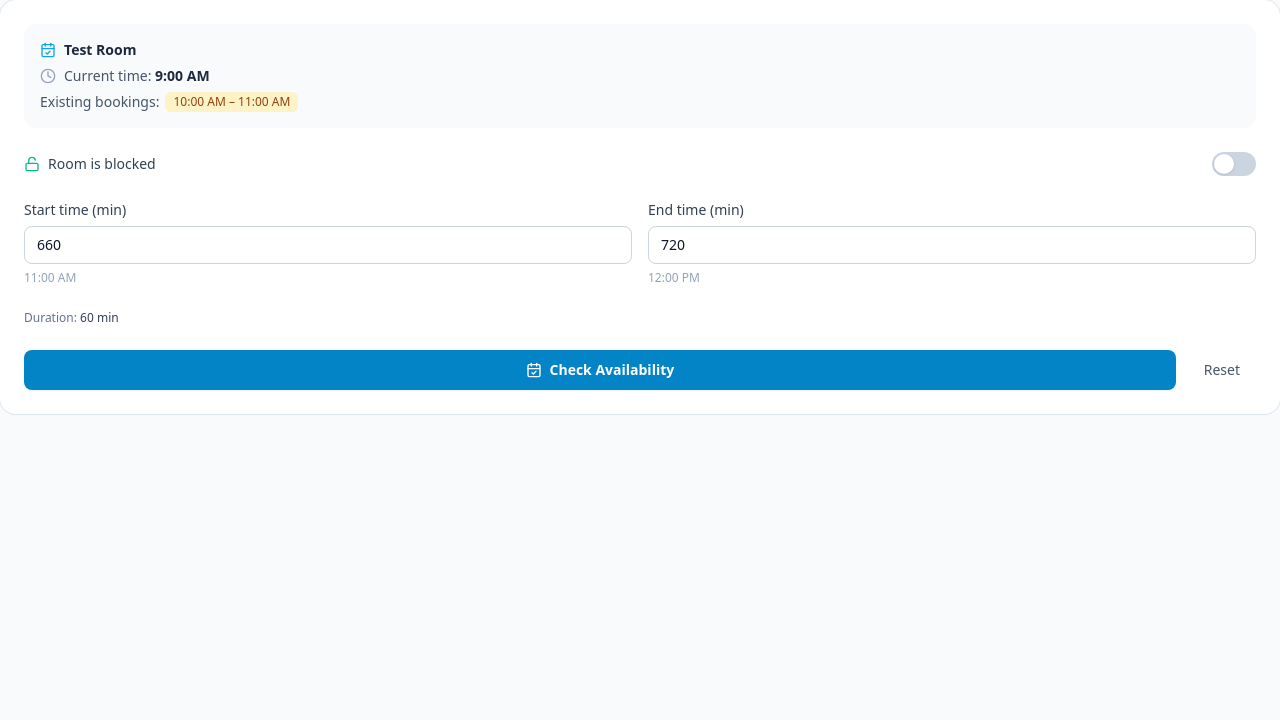
Test case: AvailabilityPanel › reports available for a valid non-overlapping future window
Click the button "Check Availability". click: x=600, y=370
box: [24, 350, 1176, 390]
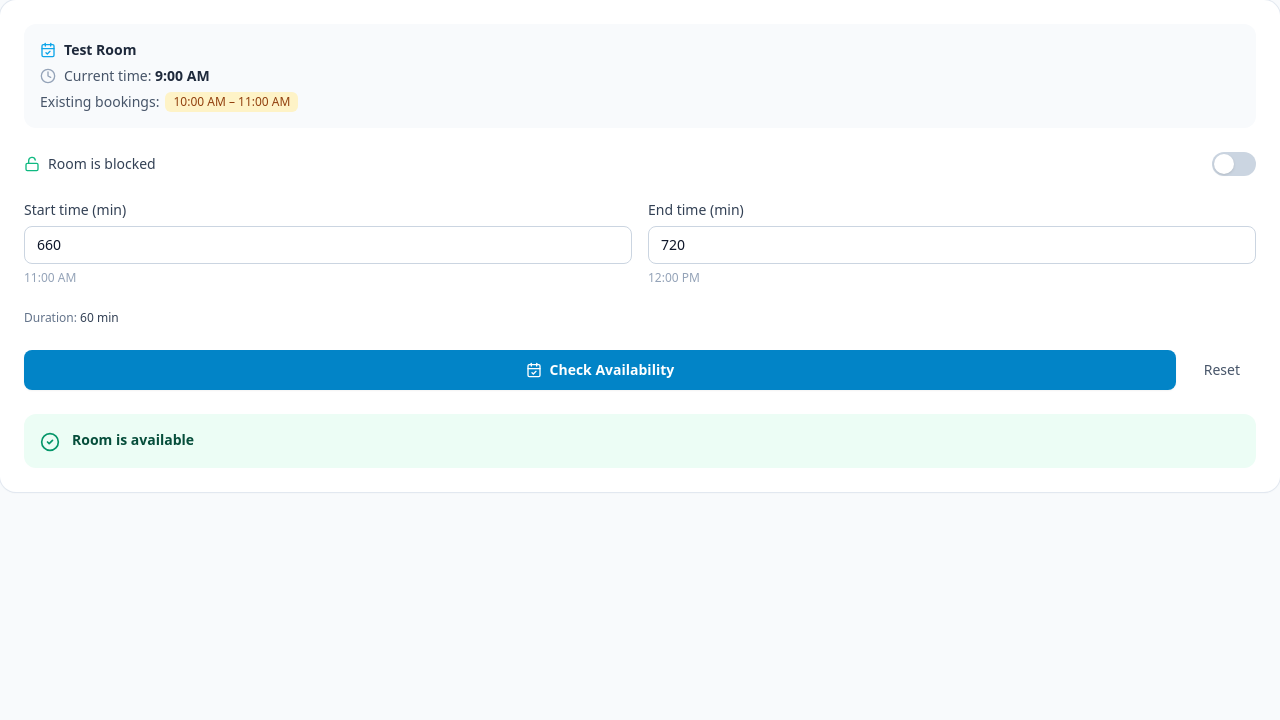
Now the text "Room is available" is shown, box [72, 430, 194, 450]
